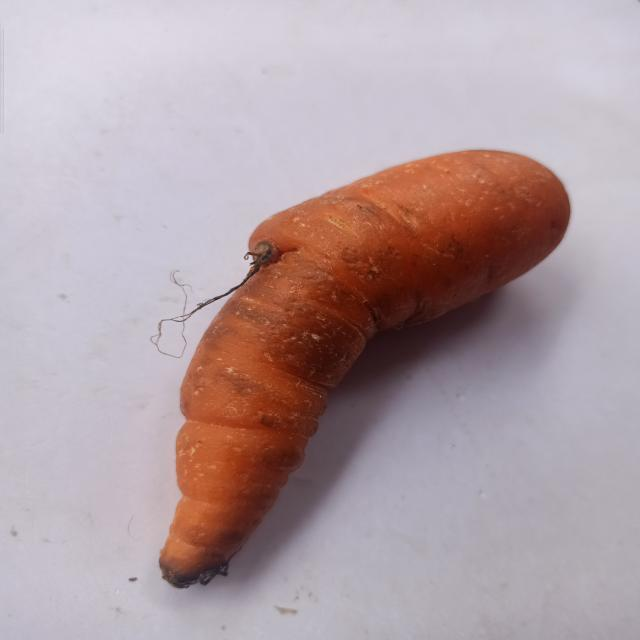Carrot: (135, 142, 585, 606)
